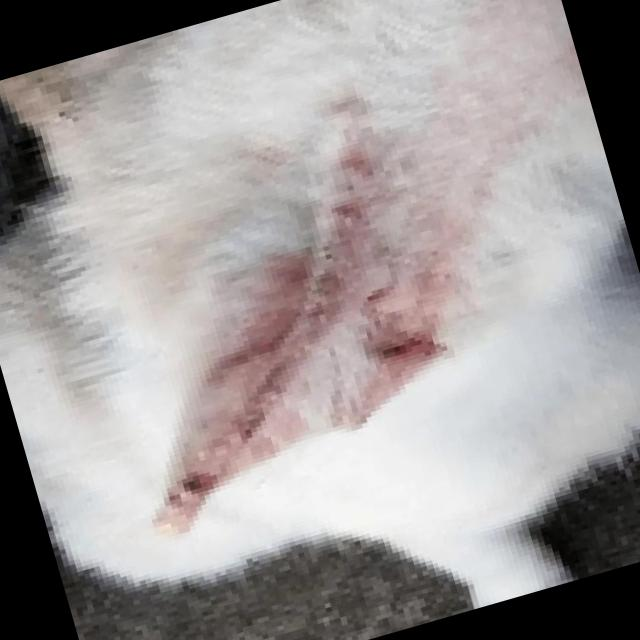Mange: (138, 431, 254, 524), (208, 368, 300, 454), (354, 316, 438, 377), (336, 264, 409, 324), (318, 134, 382, 181), (316, 181, 378, 225)
